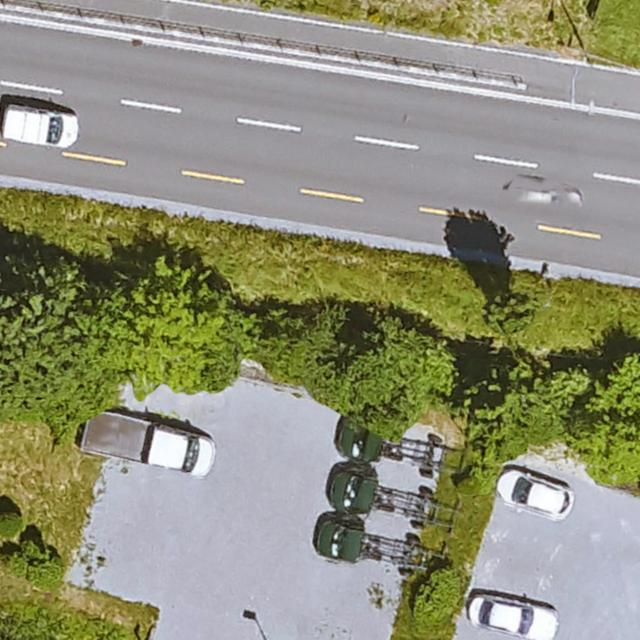tree: (1, 263, 133, 424), (123, 270, 246, 391), (357, 321, 454, 421), (305, 359, 412, 441), (259, 307, 342, 380), (593, 349, 640, 416), (411, 568, 463, 628), (488, 296, 535, 331), (0, 512, 23, 539)
